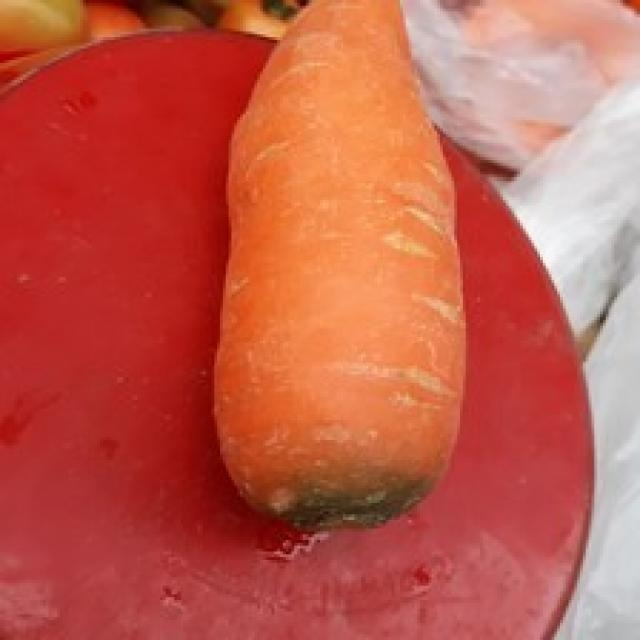carrot: (218, 0, 468, 526)
